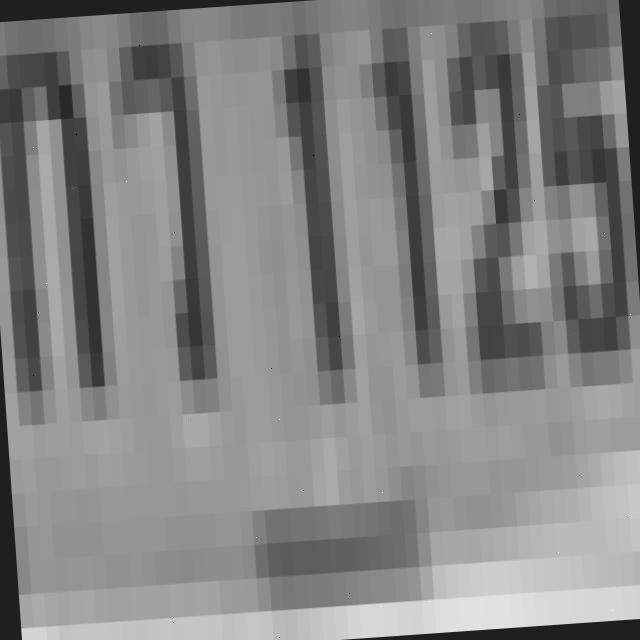1: (357, 26, 442, 367), (269, 33, 352, 340)
10GorGai: (0, 48, 120, 425)
2: (432, 20, 530, 361)
46WorWaen: (106, 41, 232, 418)
5: (519, 13, 630, 355)
